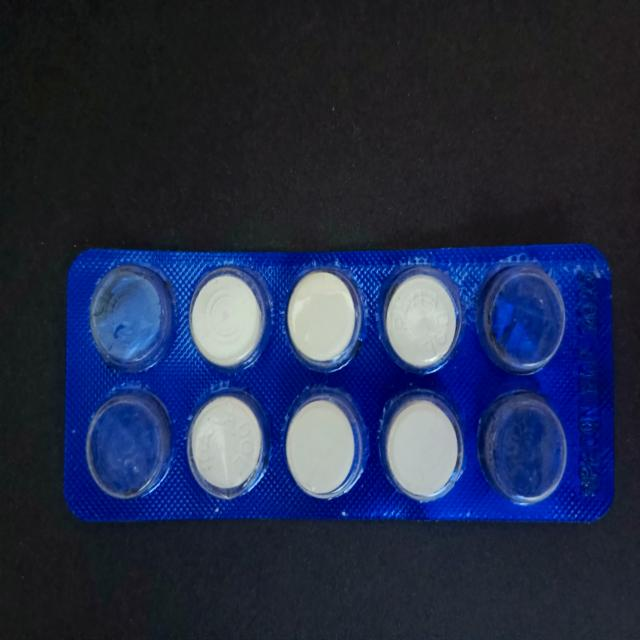defect: (478, 388, 571, 508), (83, 388, 177, 503), (479, 262, 568, 378), (88, 262, 177, 376)
